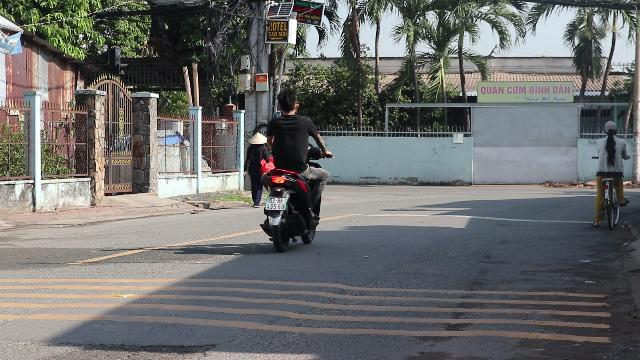licenseplate: (266, 197, 286, 211)
motorcyclist: (254, 87, 330, 251)
nohelmet: (274, 88, 300, 115)
